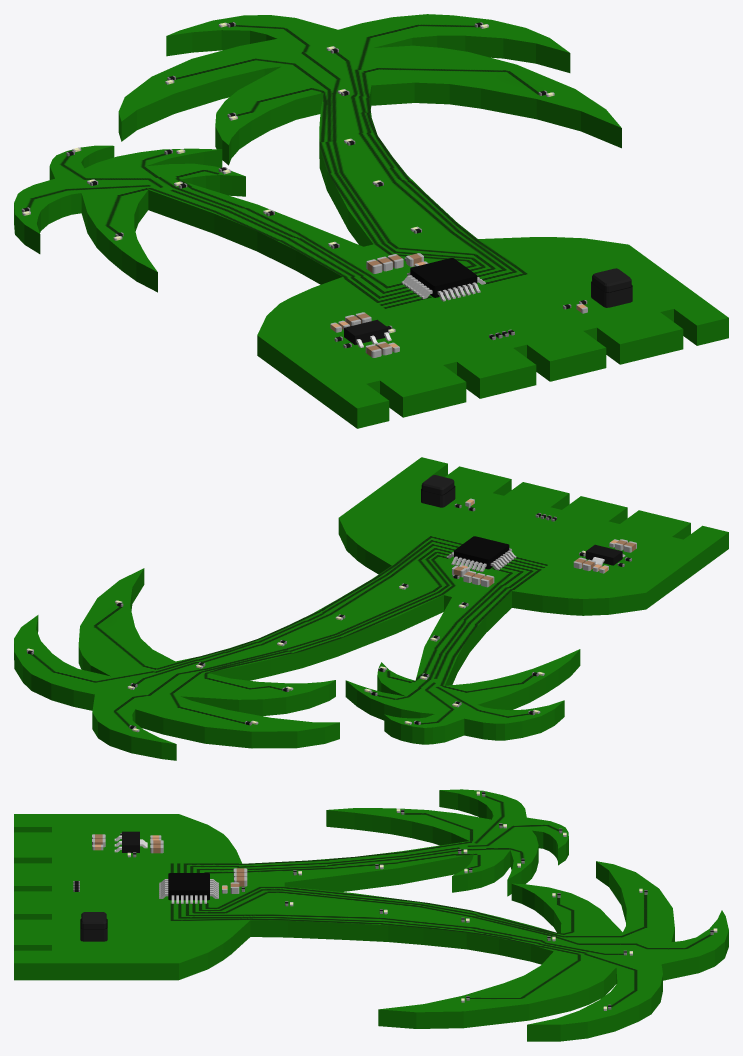
File: Plate(Splited_untested).fbx
The picture shows the model from 3 angles, top to bottom: view 1: azimuth 30°, elevation 25°; view 2: azimuth 150°, elevation 25°; view 3: azimuth 270°, elevation 25°; orthographic projection. The views are drawn at different scales.
Parts seen in each view (by area): view 1: Plate, Cube.002, Cube.003, Cube.001; view 2: Plate, Cube.002, Cube.003, Cube.001; view 3: Plate, Cube.002, Cube.003, Cube.001.
Part boxes in pixels (left/top/right/bottom): Plate: left=14, top=14, right=728, bottom=428; Cube.002: left=401, top=258, right=485, bottom=301; Cube.003: left=591, top=268, right=632, bottom=307; Cube.001: left=344, top=319, right=391, bottom=347; Plate: left=14, top=457, right=728, bottom=760; Cube.002: left=446, top=536, right=516, bottom=571; Cube.003: left=421, top=475, right=455, bottom=507; Cube.001: left=585, top=544, right=625, bottom=565; Plate: left=14, top=789, right=728, bottom=1041; Cube.002: left=159, top=873, right=218, bottom=903; Cube.003: left=80, top=912, right=107, bottom=941; Cube.001: left=114, top=831, right=147, bottom=852.
Bounding box in the file's own units: 10.23 × 0.7238 × 13.14.
